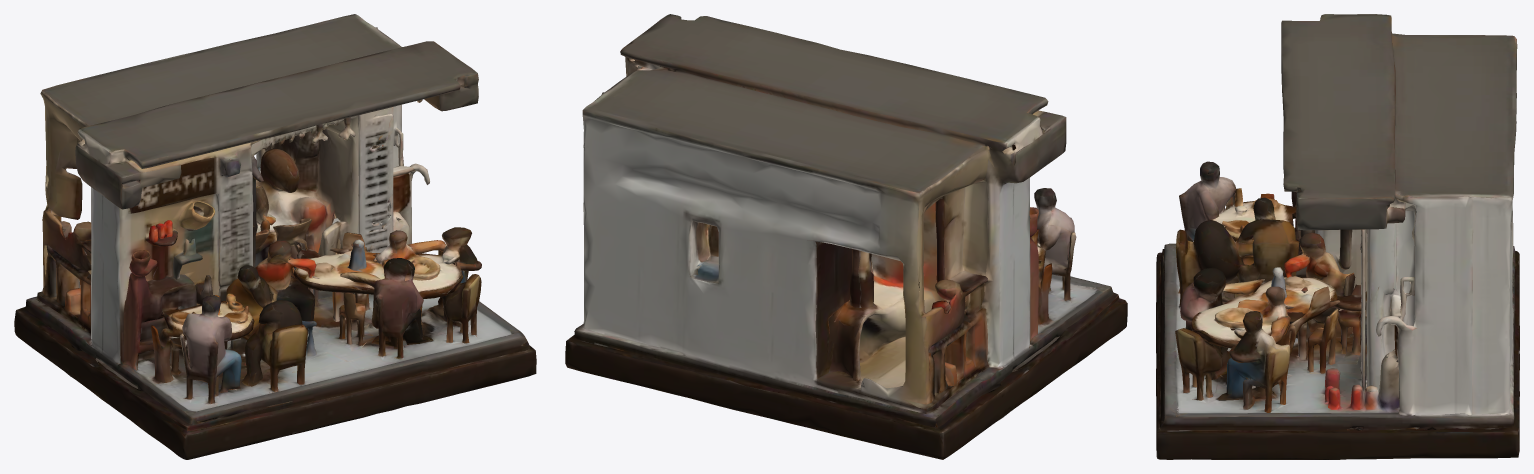
File: moment-02.web.glb
3 renders of one model, left to right at view 1: azimuth 30°, elevation 25°; view 2: azimuth 150°, elevation 25°; view 3: azimuth 270°, elevation 25°, orthographic. The views are drawn at different scales.
Size of the model in its own units: 1 by 0.6696 by 0.8187.
1 material, 1 textured.
